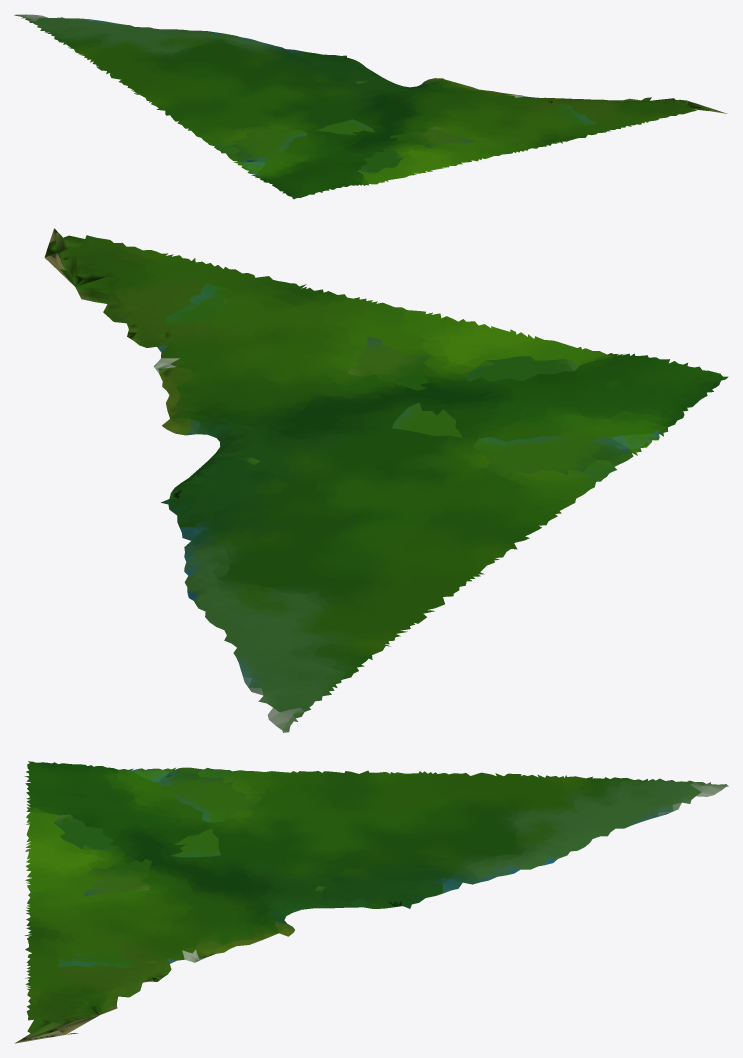
Rendered from chunk_3_0_LOD0.glb.
3 renders of one model, top to bottom at view 1: azimuth 30°, elevation 25°; view 2: azimuth 150°, elevation 25°; view 3: azimuth 270°, elevation 25°, orthographic. The views are drawn at different scales.
Visible parts, largest first — view 1: chunk_3_0_LOD0; view 2: chunk_3_0_LOD0; view 3: chunk_3_0_LOD0.
Boxes of the visible parts, x1,y1,x2,y2 form: chunk_3_0_LOD0: (14, 14, 727, 199); chunk_3_0_LOD0: (44, 228, 728, 732); chunk_3_0_LOD0: (14, 761, 728, 1043).
Bounding box in the file's own units: 78.59 × 3.59 × 89.59.
1 material, 1 textured.
